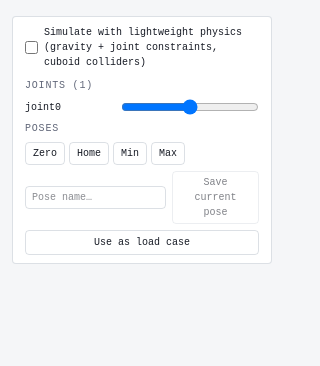
Test: RobotControlsOverlay -- use as load case (FORGE-283) › computes and displays the worst joint load on click
Click the button "Use as load case" at (142, 242), box [25,230,259,255]
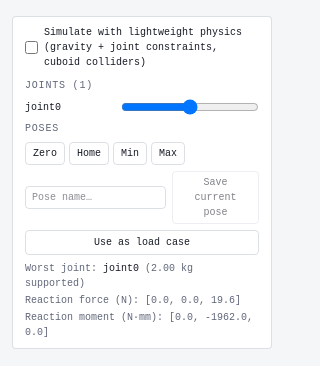
Result: the text "Worst joint: joint0 (2.00 kg supported)" is shown at [25,263,193,289]
Result: the text "Reaction force (N): [0.0, 0.0, 19.6]" is shown at [25,293,259,308]
